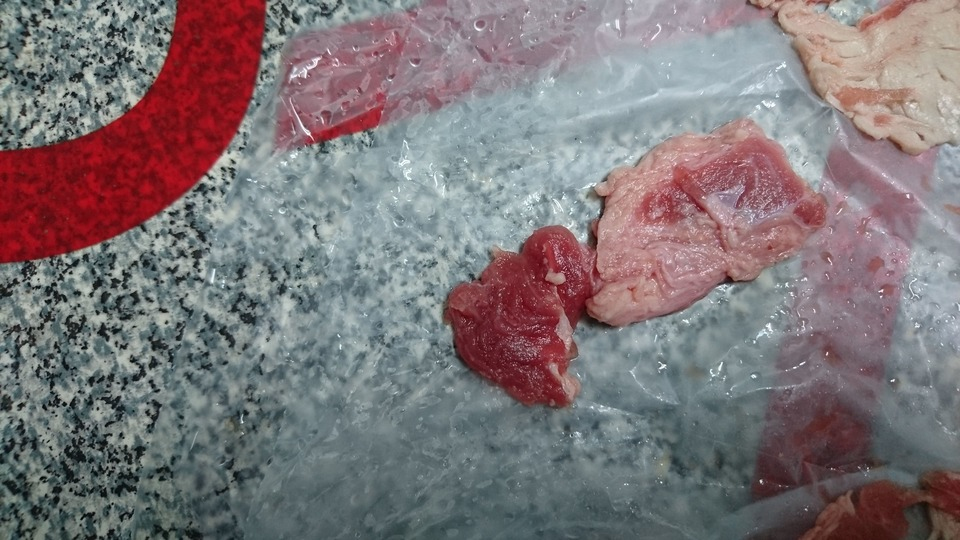restructured meat: (443, 123, 823, 407)
